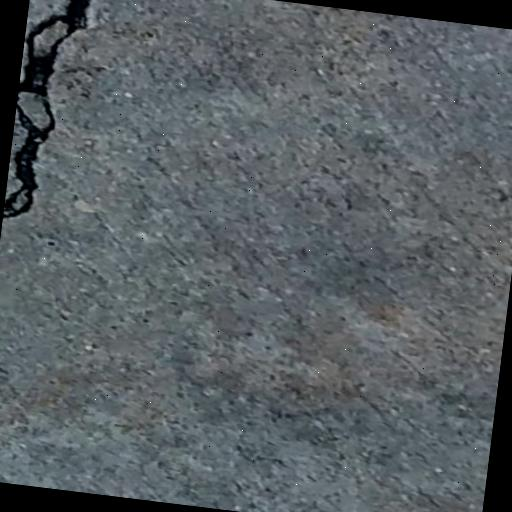spalling: (8, 0, 107, 226)
